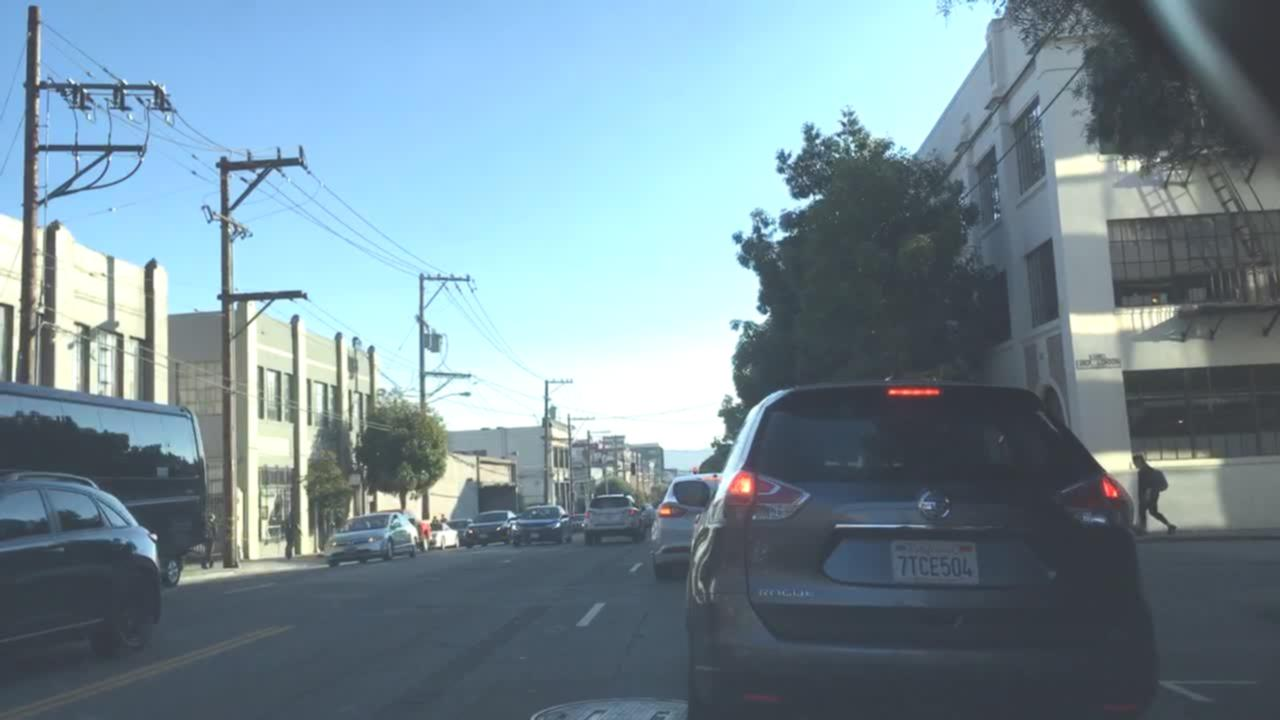Nissan: (915, 477, 953, 527)
